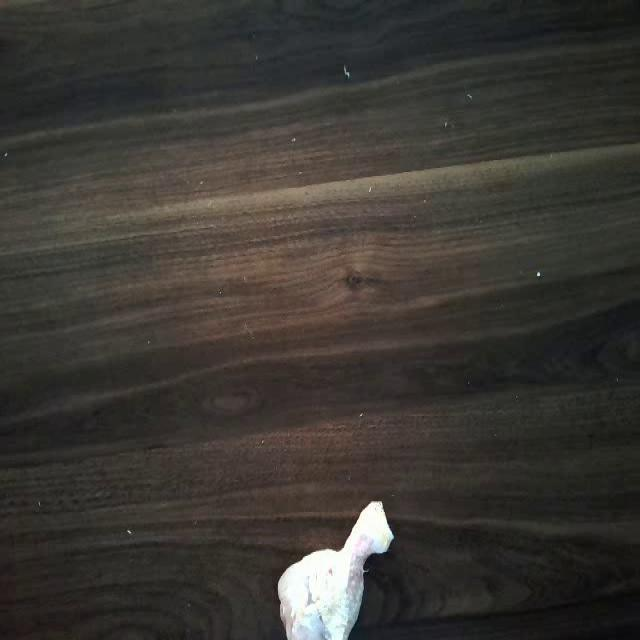leg: (272, 496, 408, 635)
